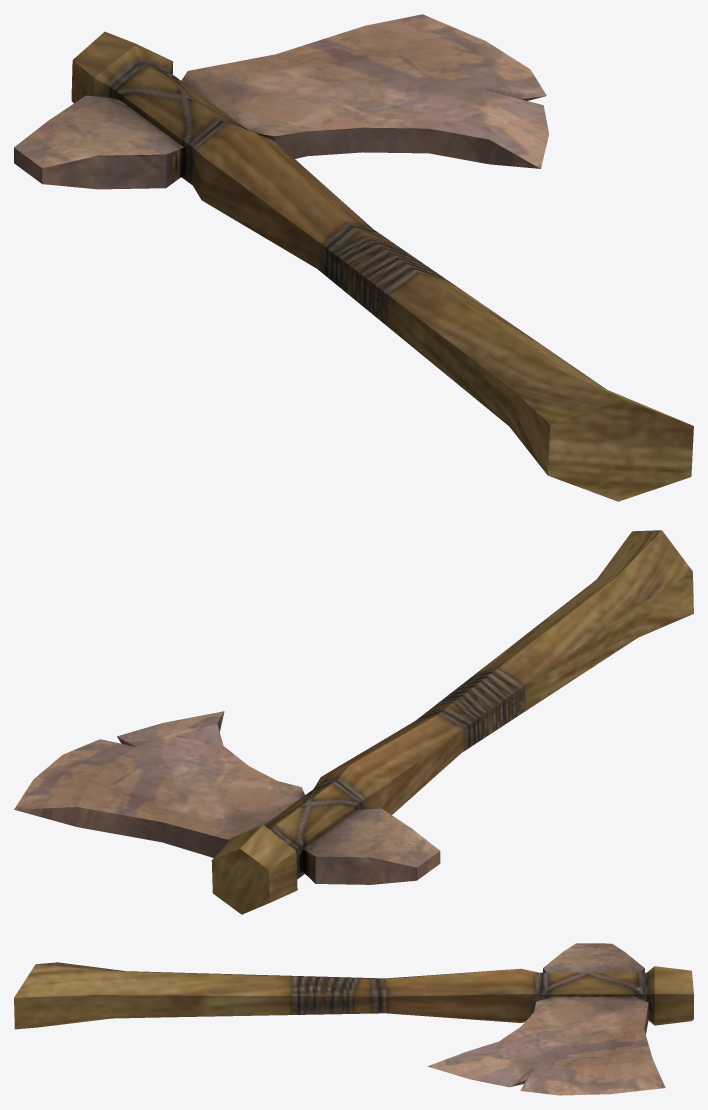
Rendered from stone_axe.obj.
The picture shows the model from 3 angles, top to bottom: view 1: azimuth 30°, elevation 25°; view 2: azimuth 150°, elevation 25°; view 3: azimuth 270°, elevation 25°; orthographic projection. The views are drawn at different scales.
Visible parts, largest first — view 1: StoneAxe_Plane.005; view 2: StoneAxe_Plane.005; view 3: StoneAxe_Plane.005.
Part boxes in pixels (<box>): StoneAxe_Plane.005: <box>14,14,693,501</box>; StoneAxe_Plane.005: <box>14,530,693,914</box>; StoneAxe_Plane.005: <box>14,943,693,1095</box>.
Bounding box in the file's own units: 0.393 × 0.0804 × 0.7677.
